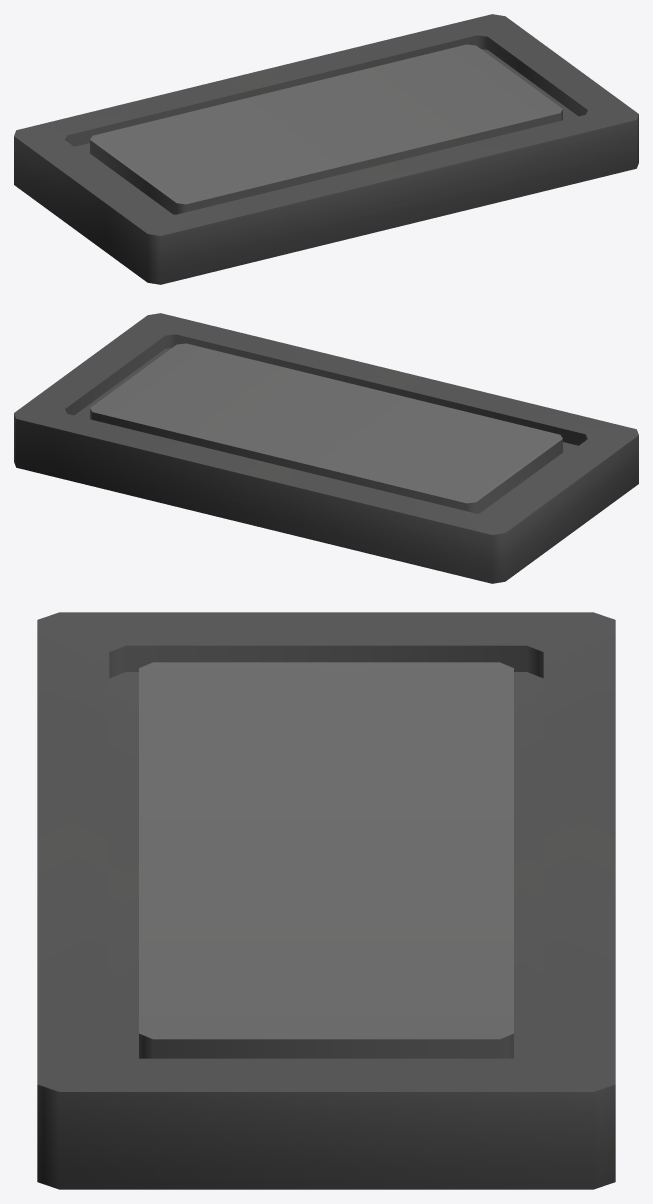
The model's file is Grave_7_1.glb.
3 views of the same model, one above another, from view 1: azimuth 30°, elevation 25°; view 2: azimuth 150°, elevation 25°; view 3: azimuth 270°, elevation 25° (orthographic). The views are drawn at different scales.
Parts seen in each view (by area): view 1: Grave_7_1; view 2: Grave_7_1; view 3: Grave_7_1.
Part boxes in pixels (<box>): Grave_7_1: <box>14,14,638,284</box>; Grave_7_1: <box>14,313,638,583</box>; Grave_7_1: <box>37,612,615,1189</box>.
Size of the model in its own units: 1.69 by 0.1625 by 0.8601.
Materials: 1 (1 with a texture image).
